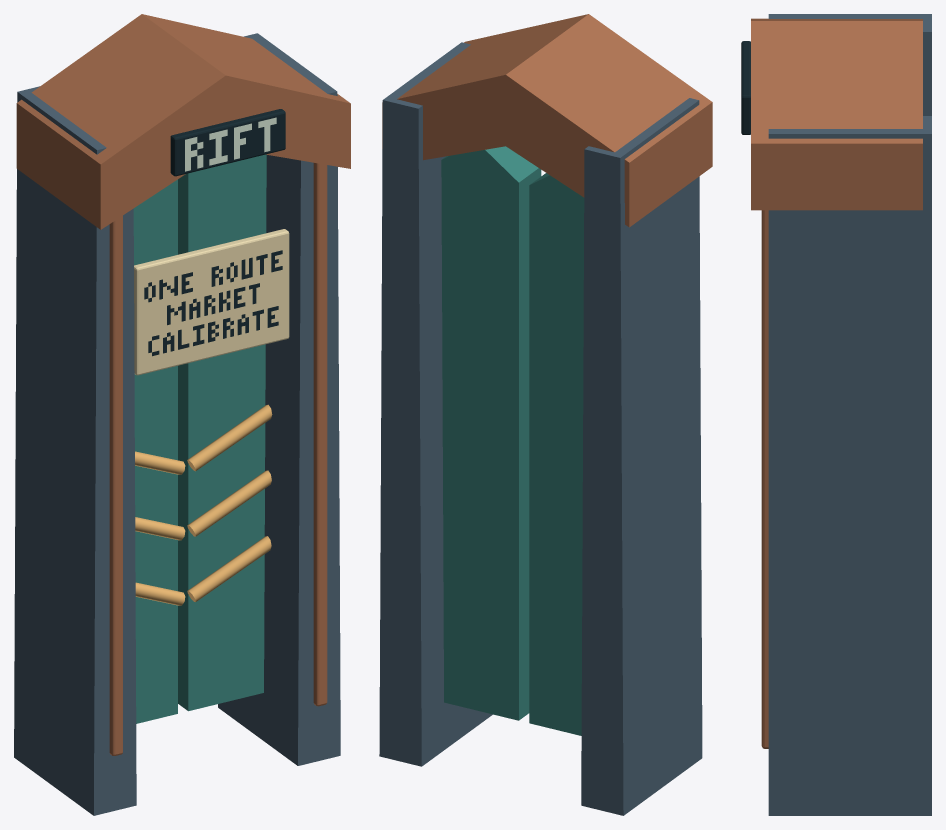
The picture shows the model from 3 angles, left to right: view 1: azimuth 30°, elevation 25°; view 2: azimuth 150°, elevation 25°; view 3: azimuth 270°, elevation 25°; orthographic projection. The views are drawn at different scales.
Visible parts, largest first — view 1: PR098 enamel and hardware; view 2: PR098 enamel and hardware; view 3: PR098 enamel and hardware.
Boxes of the visible parts, x1,y1,x2,y2 form: PR098 enamel and hardware: [14, 14, 350, 815]; PR098 enamel and hardware: [379, 14, 712, 815]; PR098 enamel and hardware: [741, 14, 931, 815].
Size of the model in its own units: 0.6965 by 1.91 by 0.45.
